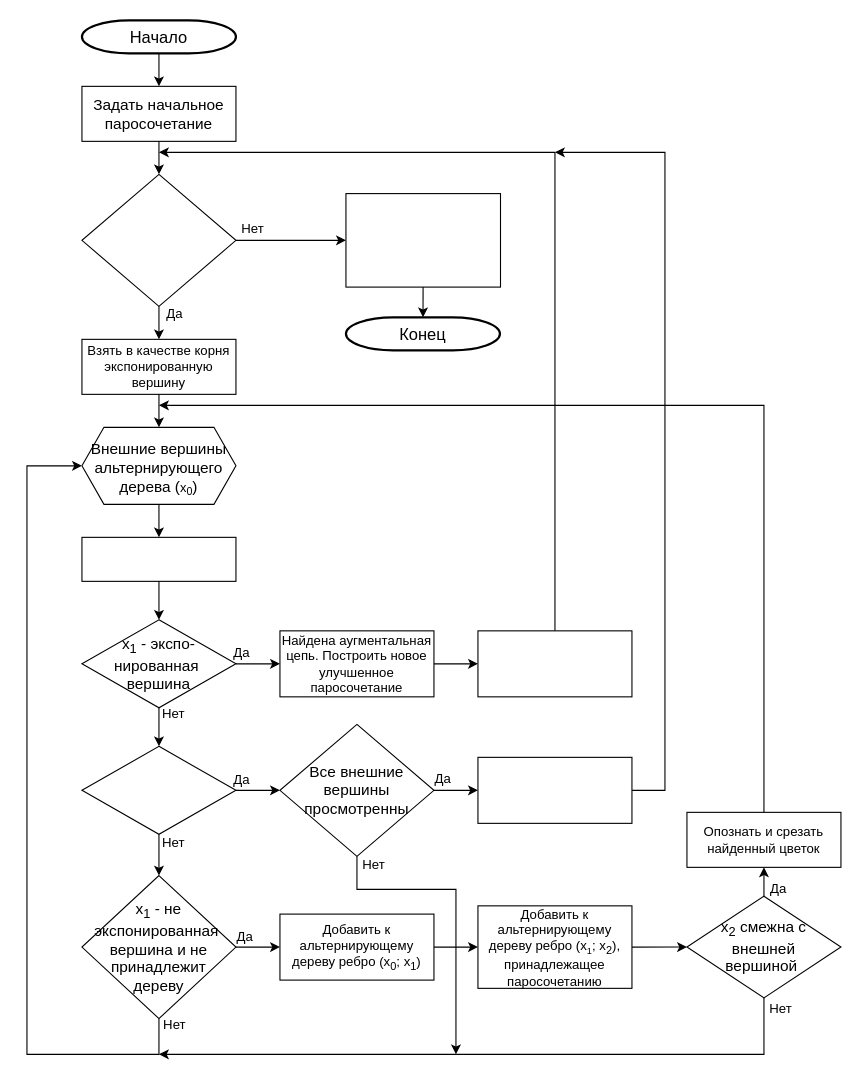
Some shapes in this 860 by 1082 pixel diagram are drawn without their labels. Each missing label, with the box of its shape:
x 1 - внут ренняя вершин а: (81, 745, 236, 834)
x 1 - смежная к x 0 вершина: (81, 536, 236, 581)
В графе больше 2-х экспонированных вершин: (81, 173, 236, 306)
Распустить цветки в обратном порядке, выделяя в них паросочетания: (345, 193, 501, 287)
Удалить все вершины альтернирующего дерева и инцидентные им рёбра: (477, 756, 632, 823)
Удалить текущее альтернирующее дерево: (477, 630, 632, 697)
